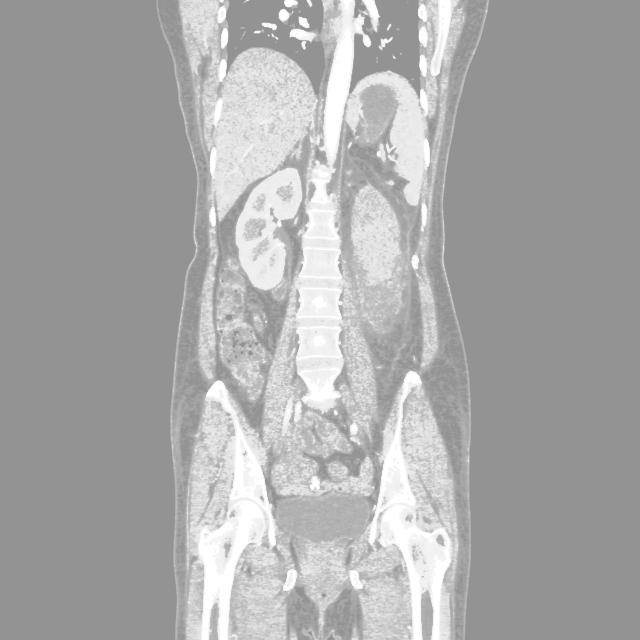TUMOR: (136, 191, 506, 409)
